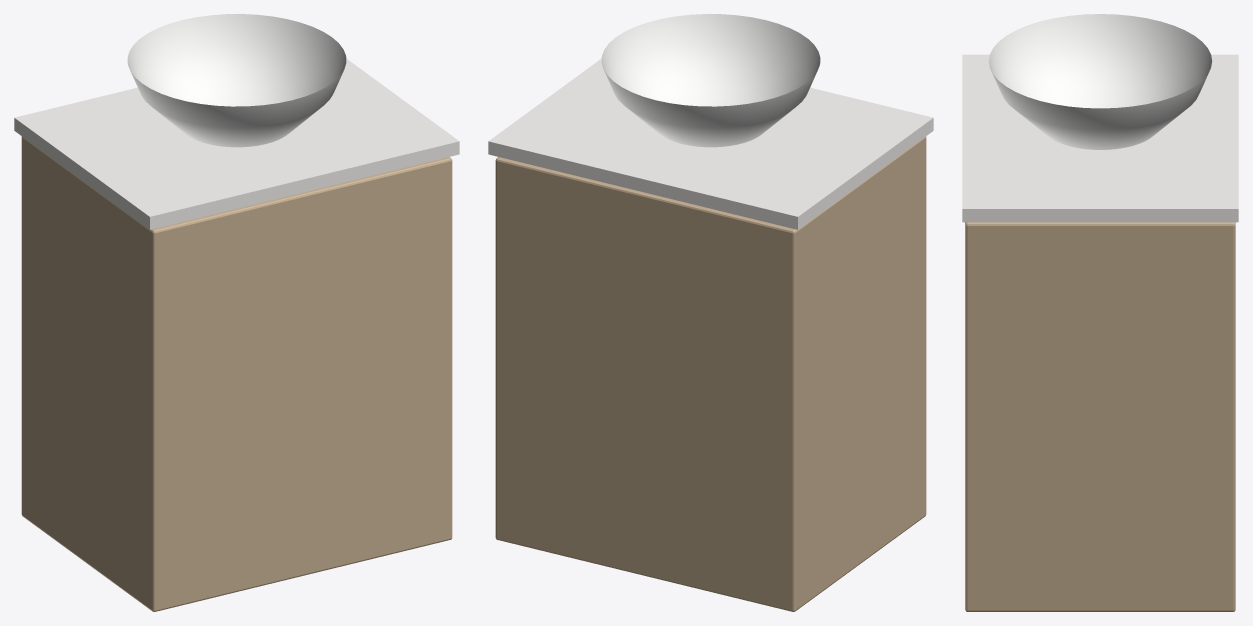
File: vanity-basin-on-top.glb
The picture shows the model from 3 angles, left to right: view 1: azimuth 30°, elevation 25°; view 2: azimuth 150°, elevation 25°; view 3: azimuth 270°, elevation 25°; orthographic projection.
Parts seen in each view (by area): view 1: body; view 2: body; view 3: body.
Part boxes in pixels (box(x1,y1,x2,y2)): body: box(14, 14, 459, 611); body: box(488, 14, 933, 611); body: box(962, 14, 1238, 611).
Size of the model in its own units: 0.62 by 0.895 by 0.47.
